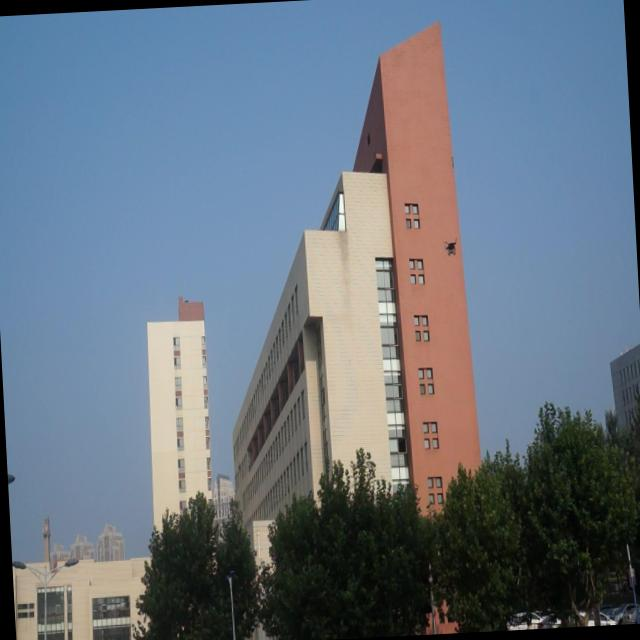drone: (444, 233, 459, 260)
